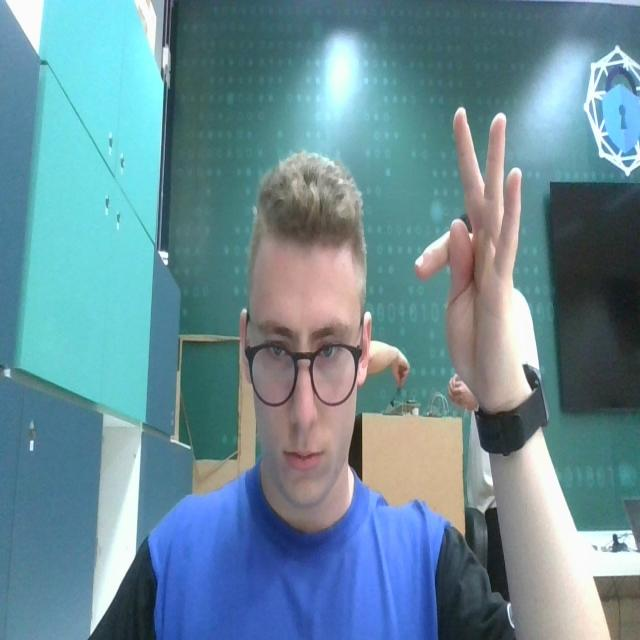T: (414, 98, 531, 405)
